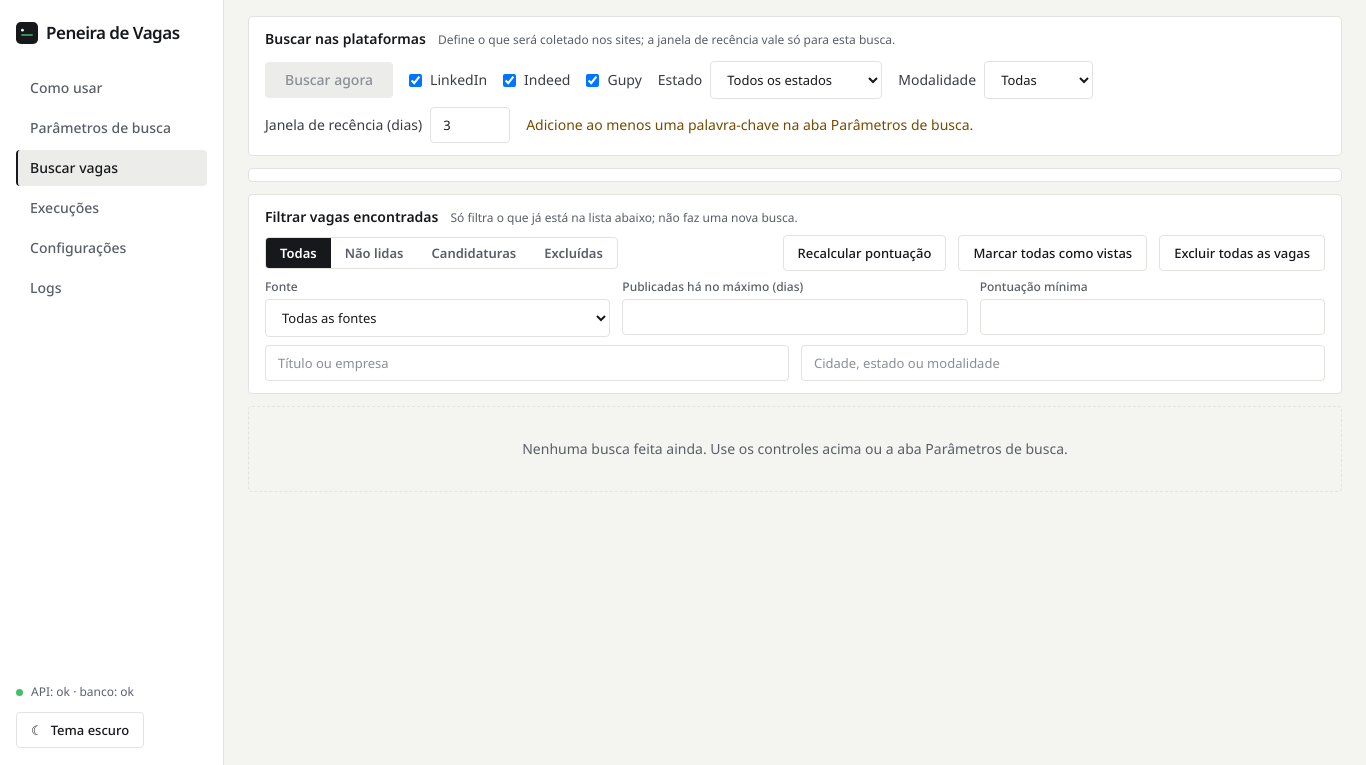
Test: App — configurações › tem a aba Configurações
Step 1. Click the tab "Configurações" → (112, 248), box [16, 230, 207, 266]
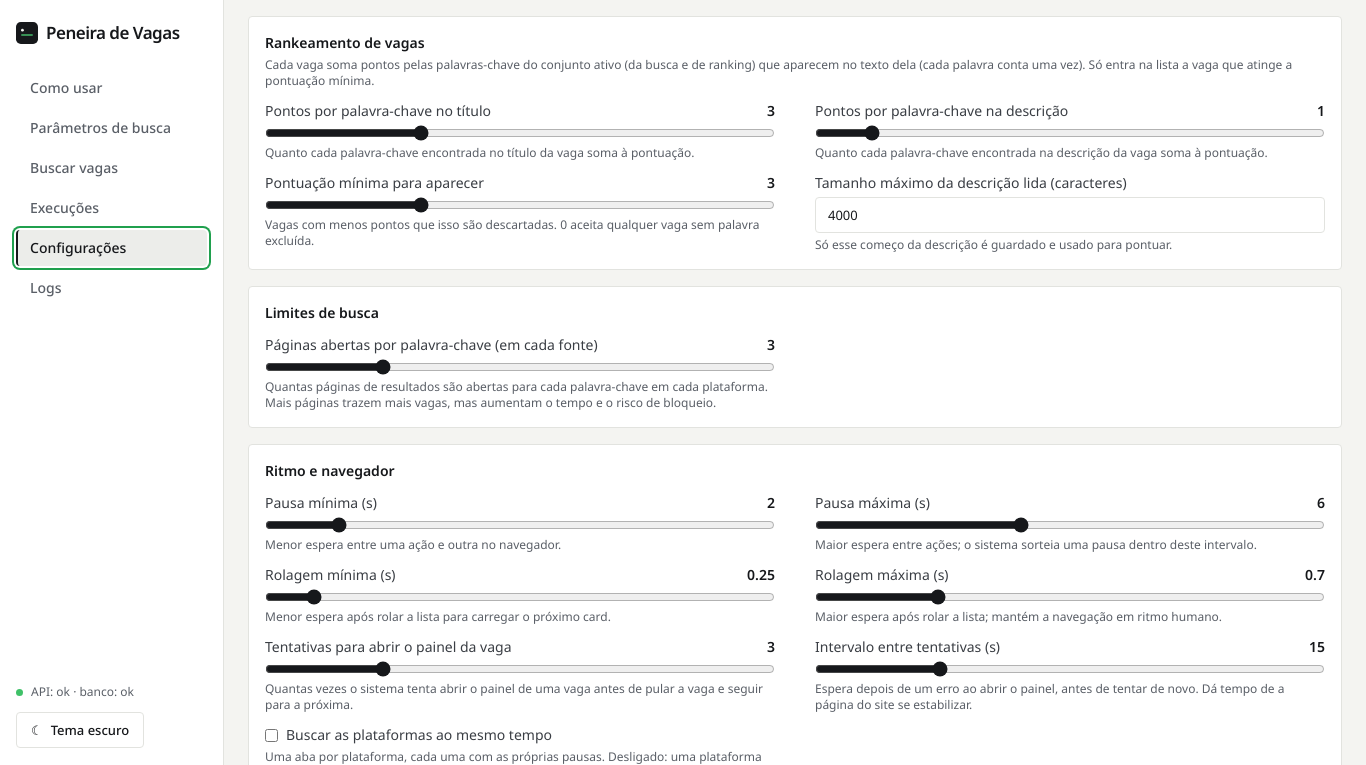
Check: the slider labelled "Pontuação mínima para aparecer" is shown, box [265, 197, 775, 213]
